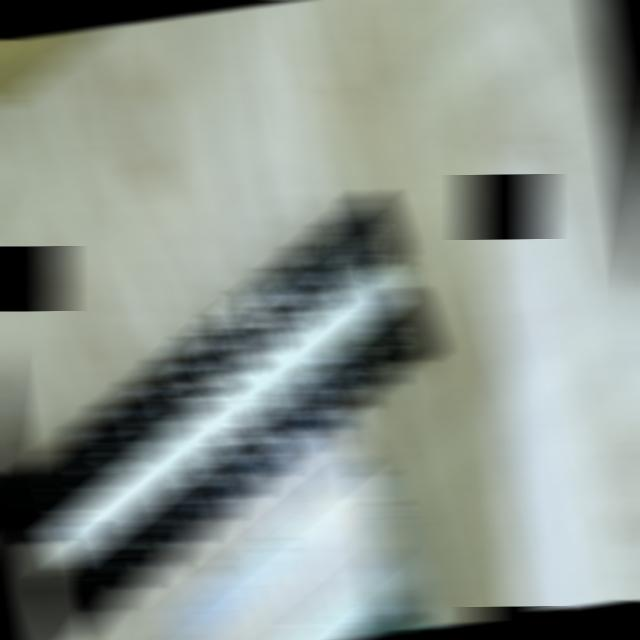Phillips_Block: (0, 190, 480, 640)
